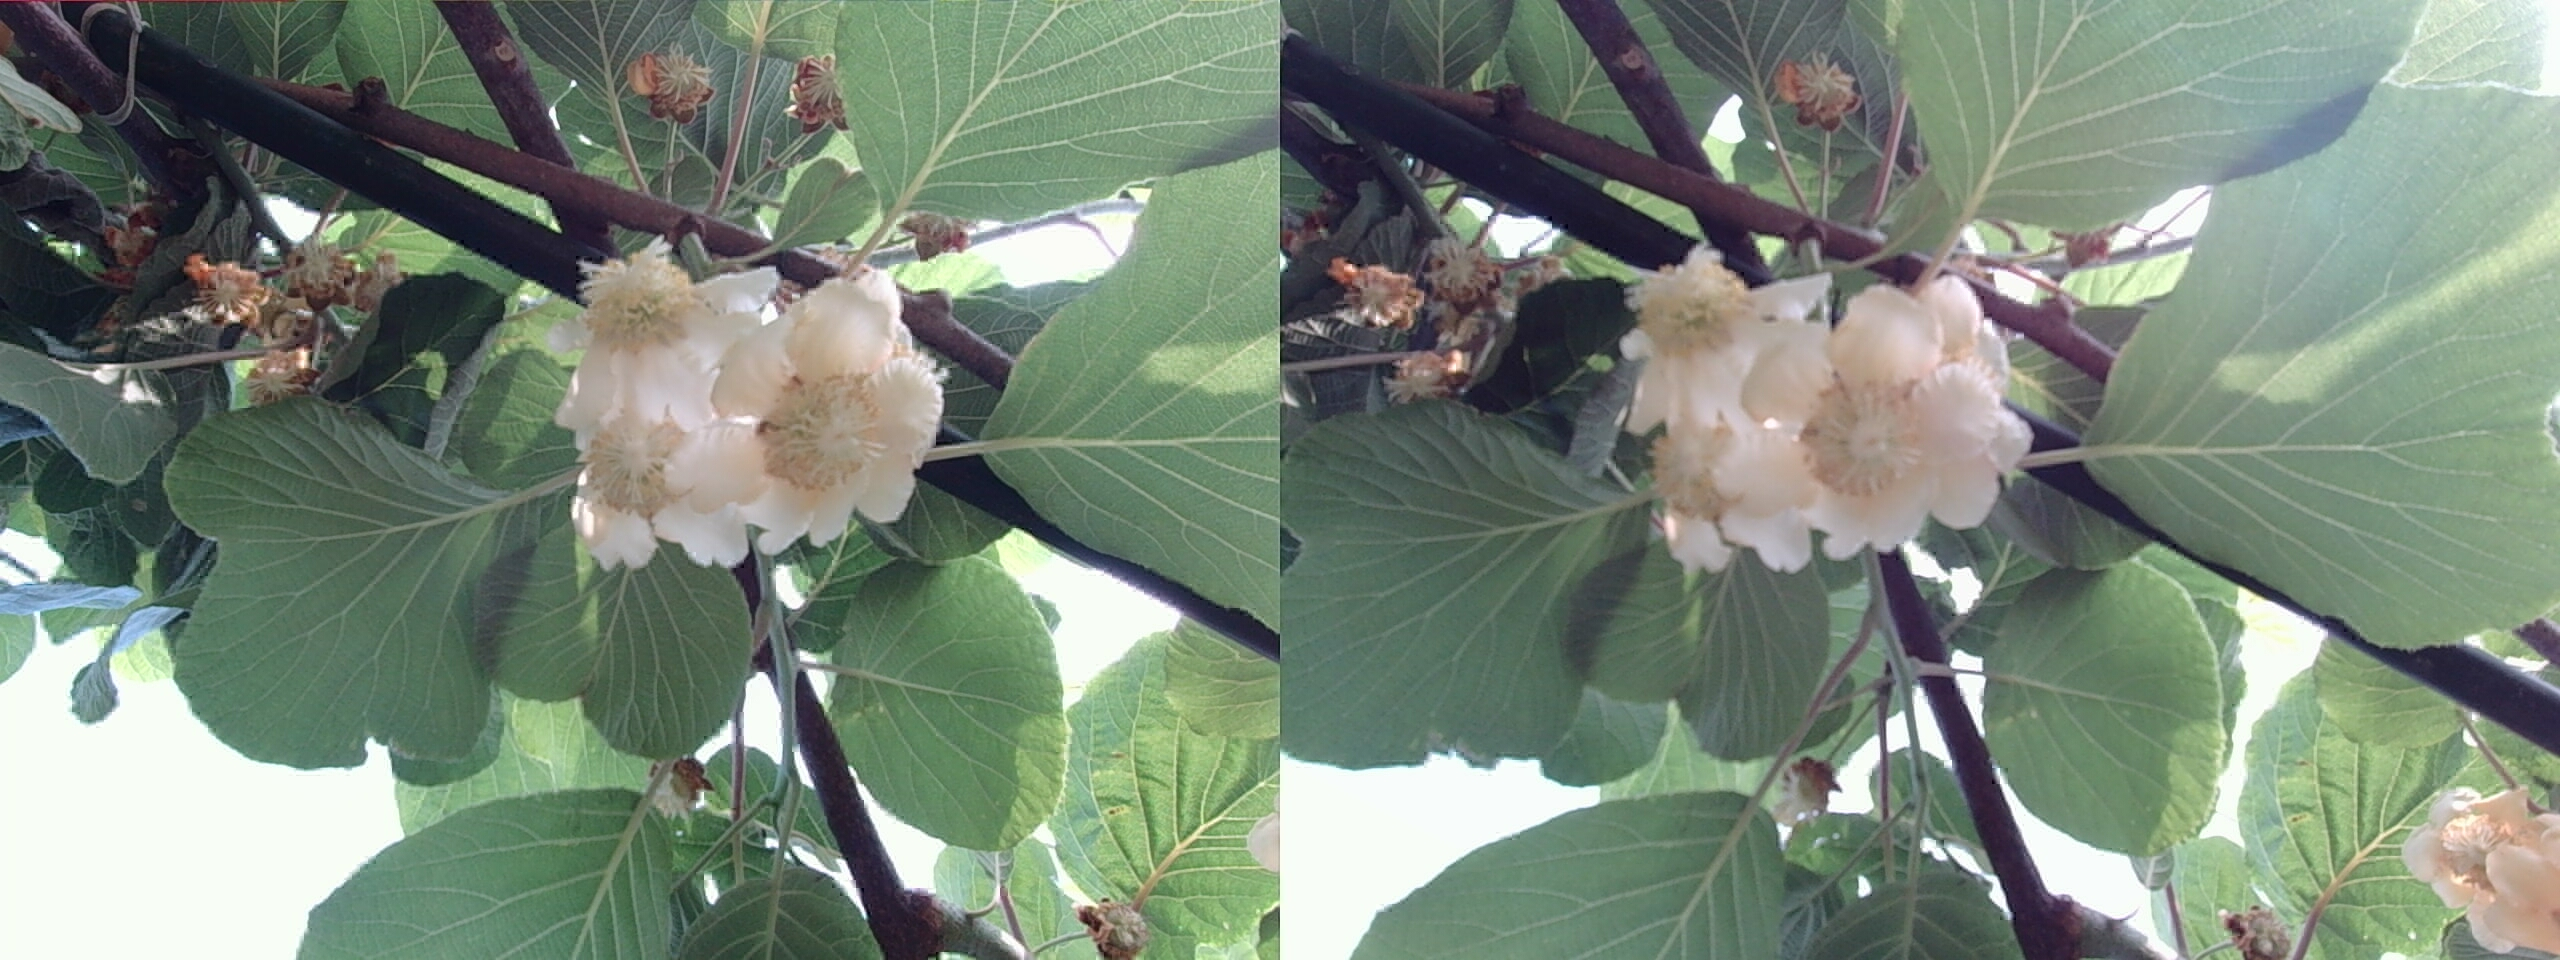flower: (1701, 279, 2011, 562), (666, 282, 939, 562), (558, 287, 790, 550), (1626, 279, 1835, 539), (560, 250, 753, 429), (1623, 253, 1804, 428), (2403, 784, 2555, 942)
